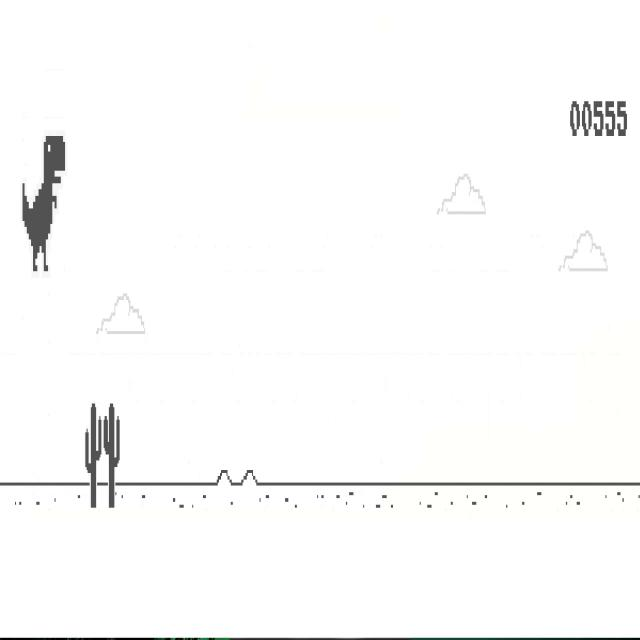cacto: (85, 402, 102, 509), (103, 402, 120, 509)
dino: (23, 135, 66, 274)
